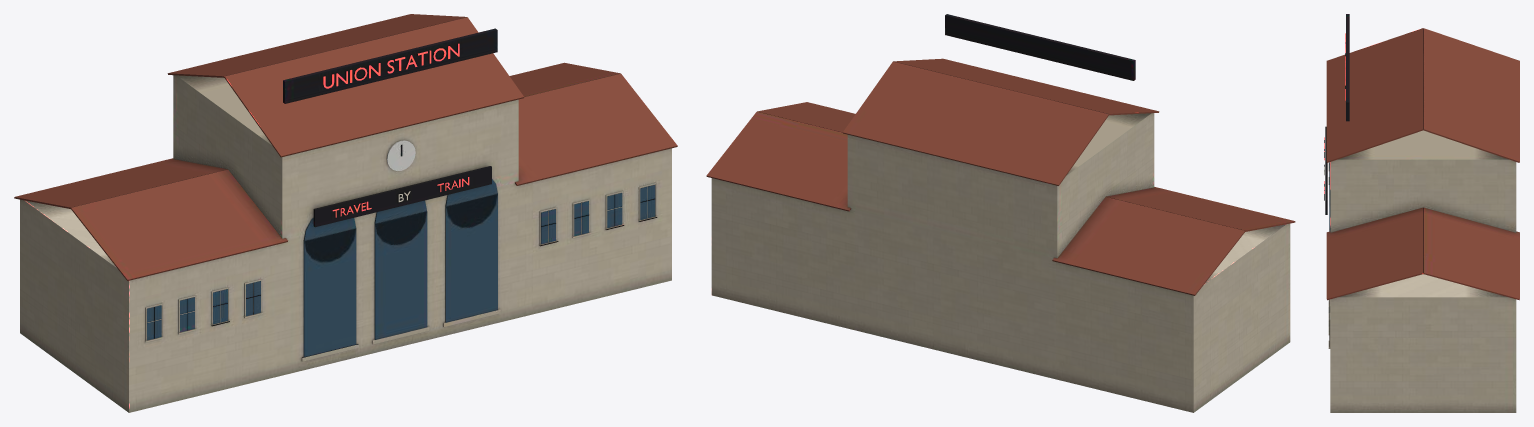
The model's file is union_station_den.glb.
3 views of the same model, side by side, from view 1: azimuth 30°, elevation 25°; view 2: azimuth 150°, elevation 25°; view 3: azimuth 270°, elevation 25° (orthographic). The views are drawn at different scales.
Parts seen in each view (by area): view 1: union_station_den; view 2: union_station_den; view 3: union_station_den.
Boxes of the visible parts, box(x1,y1,x2,y2) form: union_station_den: box(14, 14, 677, 412); union_station_den: box(706, 14, 1295, 412); union_station_den: box(1324, 14, 1519, 412).
Size of the model in its own units: 46.6 by 23 by 16.87.
1 material, 1 textured.
